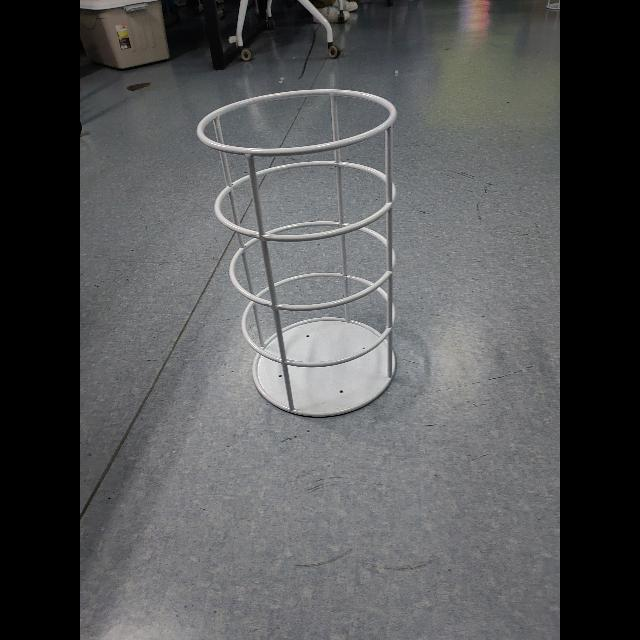S: (190, 86, 408, 424)
